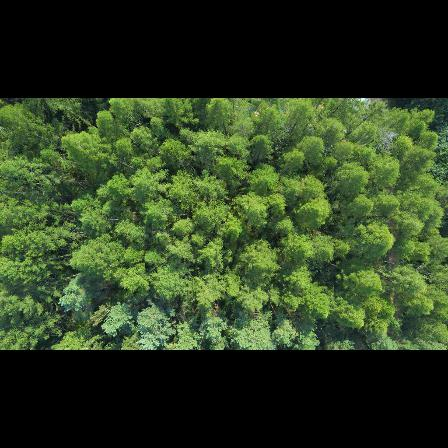Dead: (376, 128, 400, 154)
